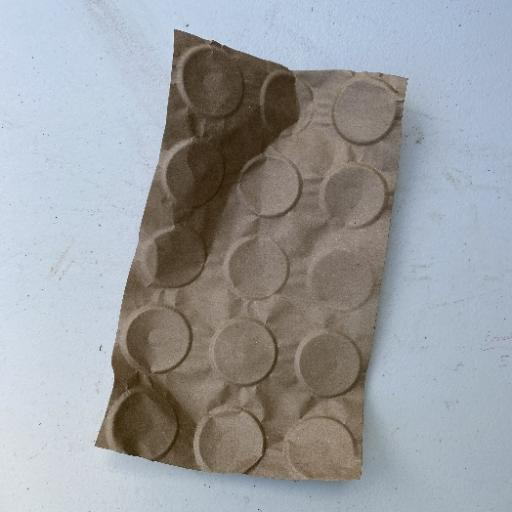Cardboard: (93, 28, 410, 482)
